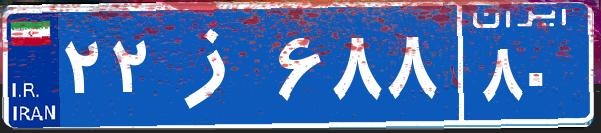0: (525, 38, 570, 115)
2: (57, 26, 110, 107), (110, 28, 158, 105)
6: (273, 28, 330, 110)
8: (385, 28, 445, 110), (330, 28, 385, 110), (475, 38, 525, 113)
ز: (158, 15, 273, 115)
